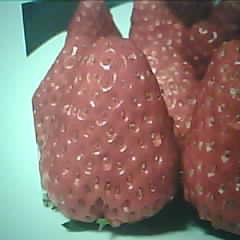straw-ripe: (47, 39, 179, 226)
